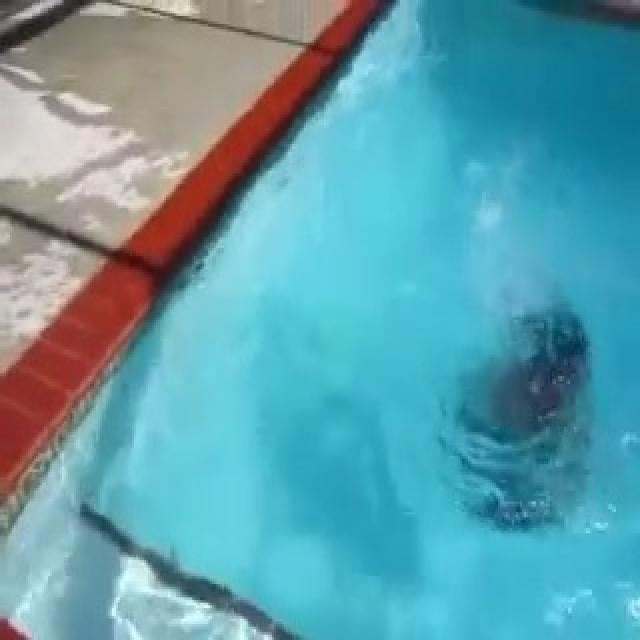drowning: (441, 272, 601, 546)
